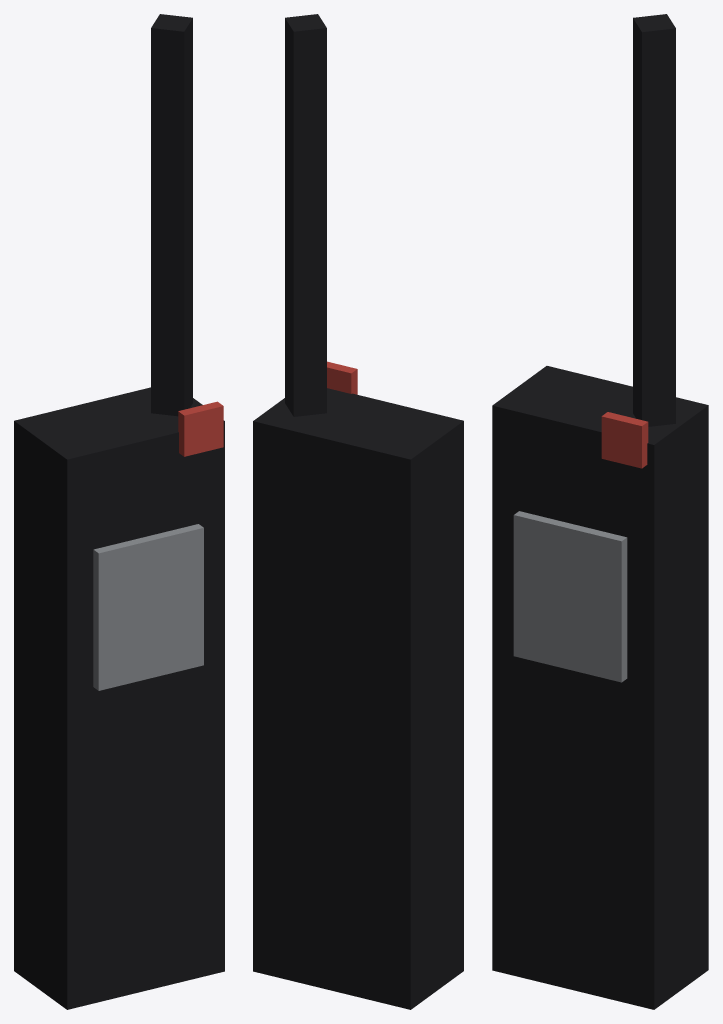
Rendered from GD_Radio_Handheld_01.glb.
The picture shows the model from 3 angles, left to right: view 1: azimuth 30°, elevation 25°; view 2: azimuth 150°, elevation 25°; view 3: azimuth 330°, elevation 25°; orthographic projection. The views are drawn at different scales.
Visible parts, largest first — view 1: GD_Radio_Handheld_01; view 2: GD_Radio_Handheld_01; view 3: GD_Radio_Handheld_01.
Part boxes in pixels (left/top/right/bottom): GD_Radio_Handheld_01: left=14, top=14, right=224, bottom=1009; GD_Radio_Handheld_01: left=253, top=14, right=463, bottom=1009; GD_Radio_Handheld_01: left=492, top=14, right=708, bottom=1009.
Size of the model in its own units: 0.06 by 0.34 by 0.0385.
1 material, 1 textured.
